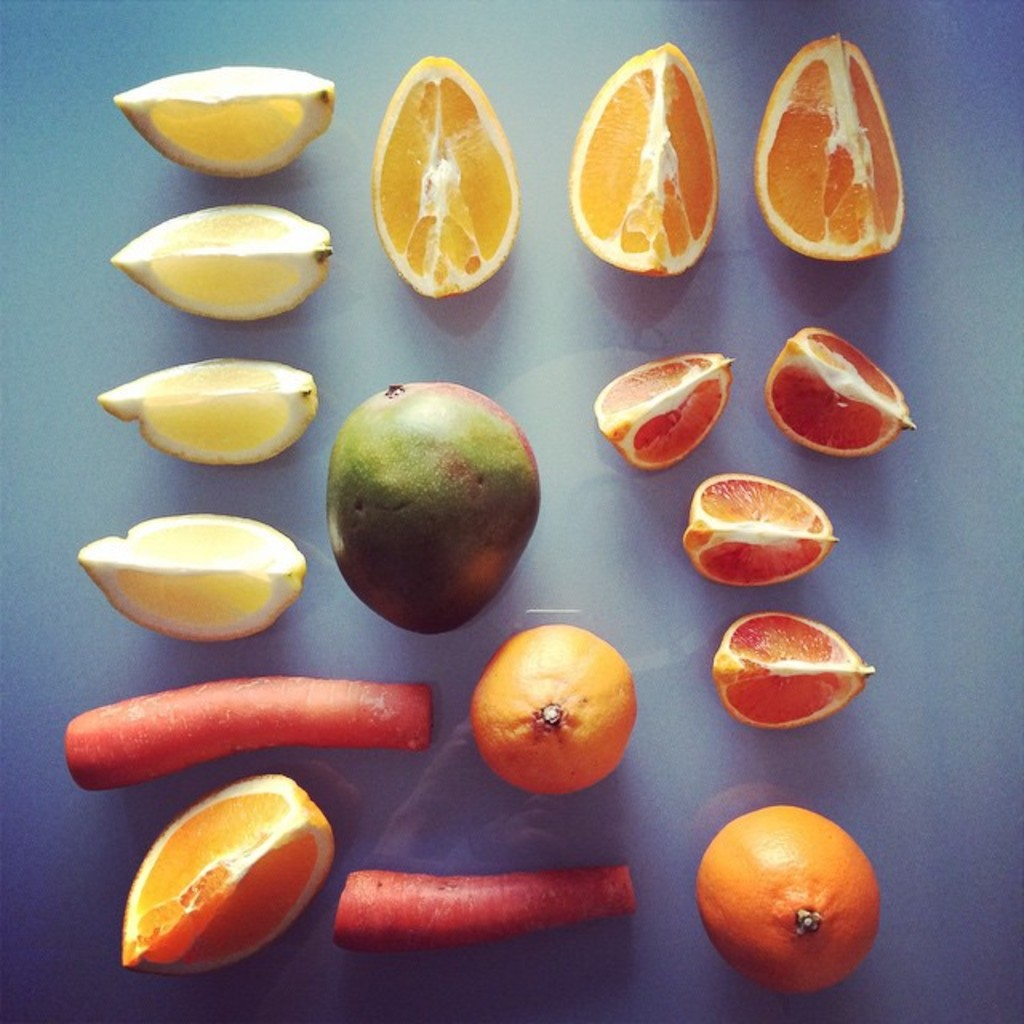Ripe: (114, 778, 341, 973), (370, 53, 522, 296), (688, 819, 886, 997), (754, 30, 898, 269), (74, 515, 310, 634), (586, 37, 706, 270), (474, 619, 626, 792), (114, 198, 331, 315), (114, 67, 338, 179), (102, 362, 318, 467), (717, 602, 882, 723), (678, 475, 842, 595), (592, 347, 744, 470), (771, 320, 909, 448)
